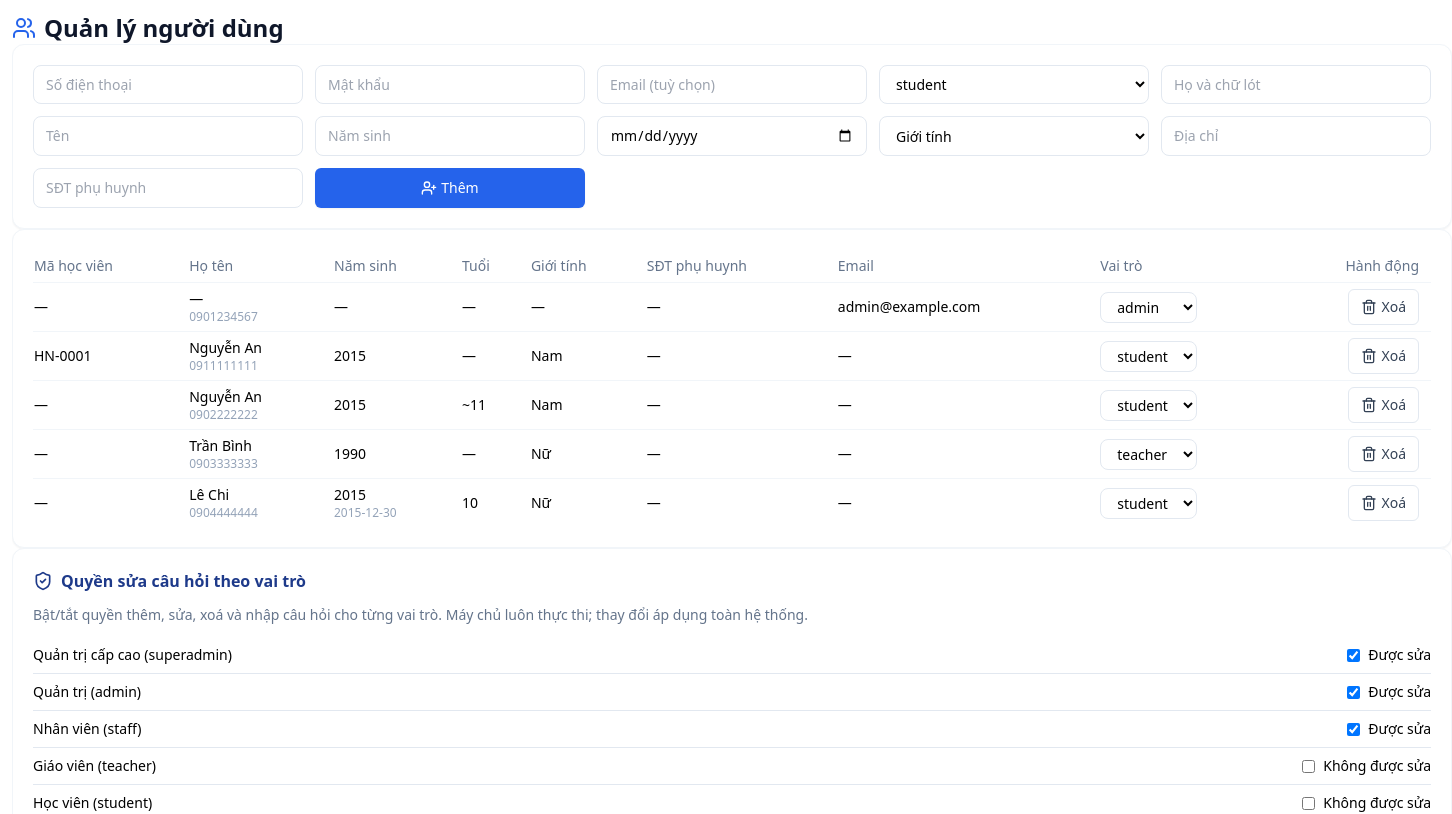
Test: UsersPage › rejects a birth date whose year contradicts the birth year
Expected: the text "0901234567" is shown, x1=189 y1=308 x2=258 y2=325
Type "0905555557" into the field labelled "Số điện thoại" at (168, 84), box x1=33 y1=65 x2=303 y2=104
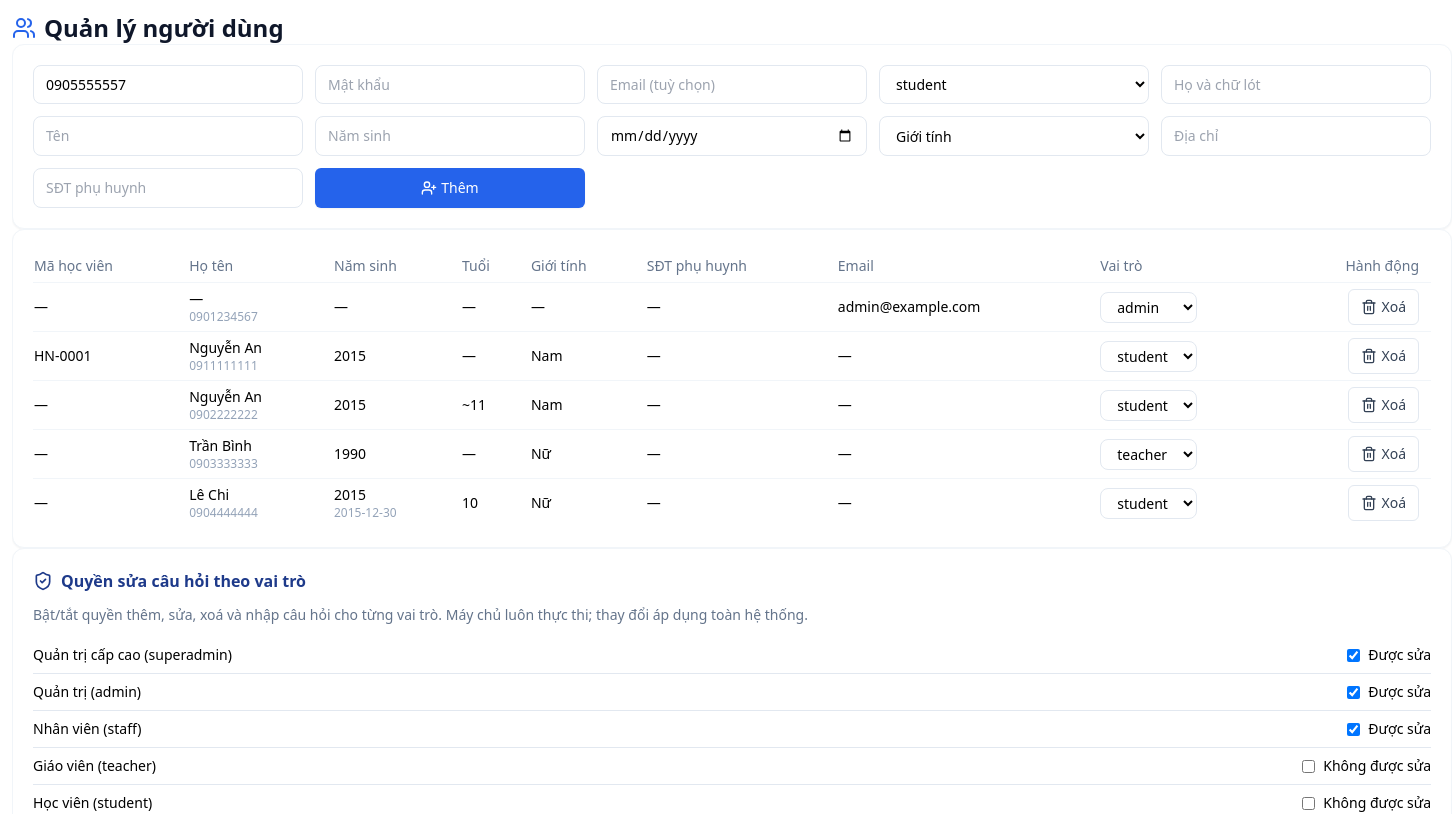
Type "secret12" into the password field labelled "Mật khẩu" at (450, 84), box x1=315 y1=65 x2=585 y2=104
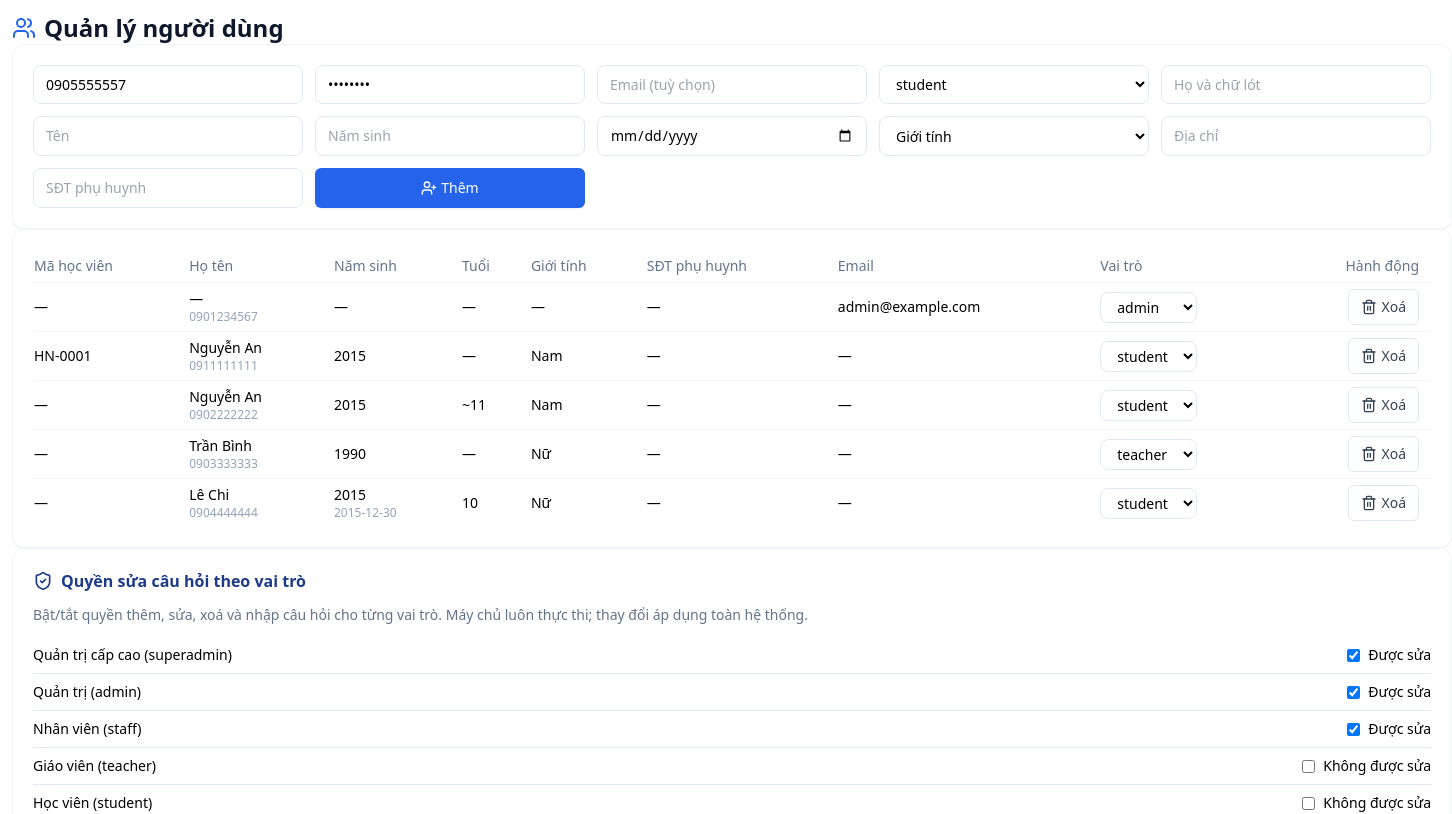
Type "1999" into the number field labelled "Năm sinh" at (450, 136), box x1=315 y1=116 x2=585 y2=156
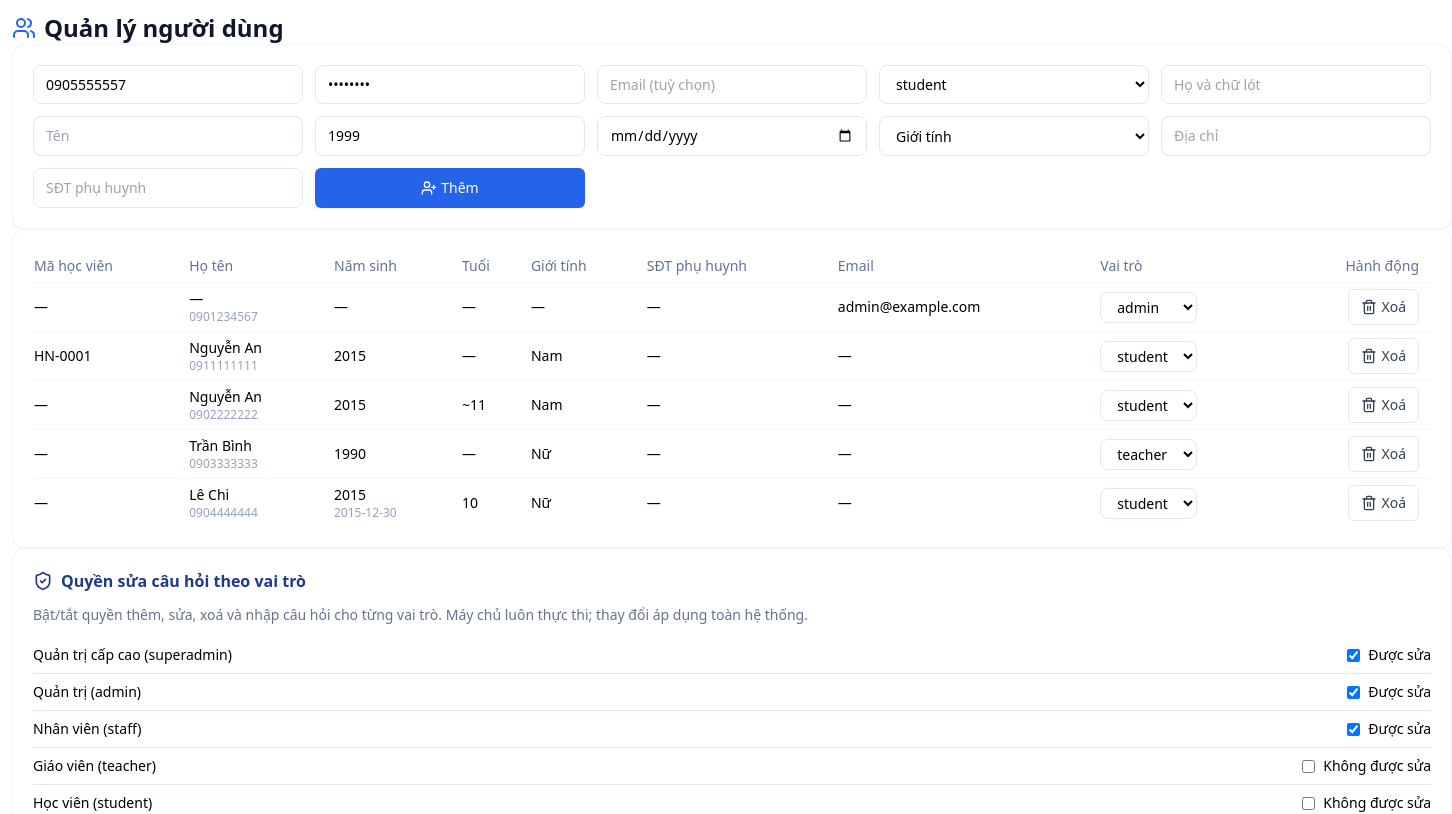
Type "2015-12-30" into the date field named "Ngày sinh đầy đủ (tuỳ chọn)" at (732, 136), box x1=597 y1=116 x2=867 y2=156
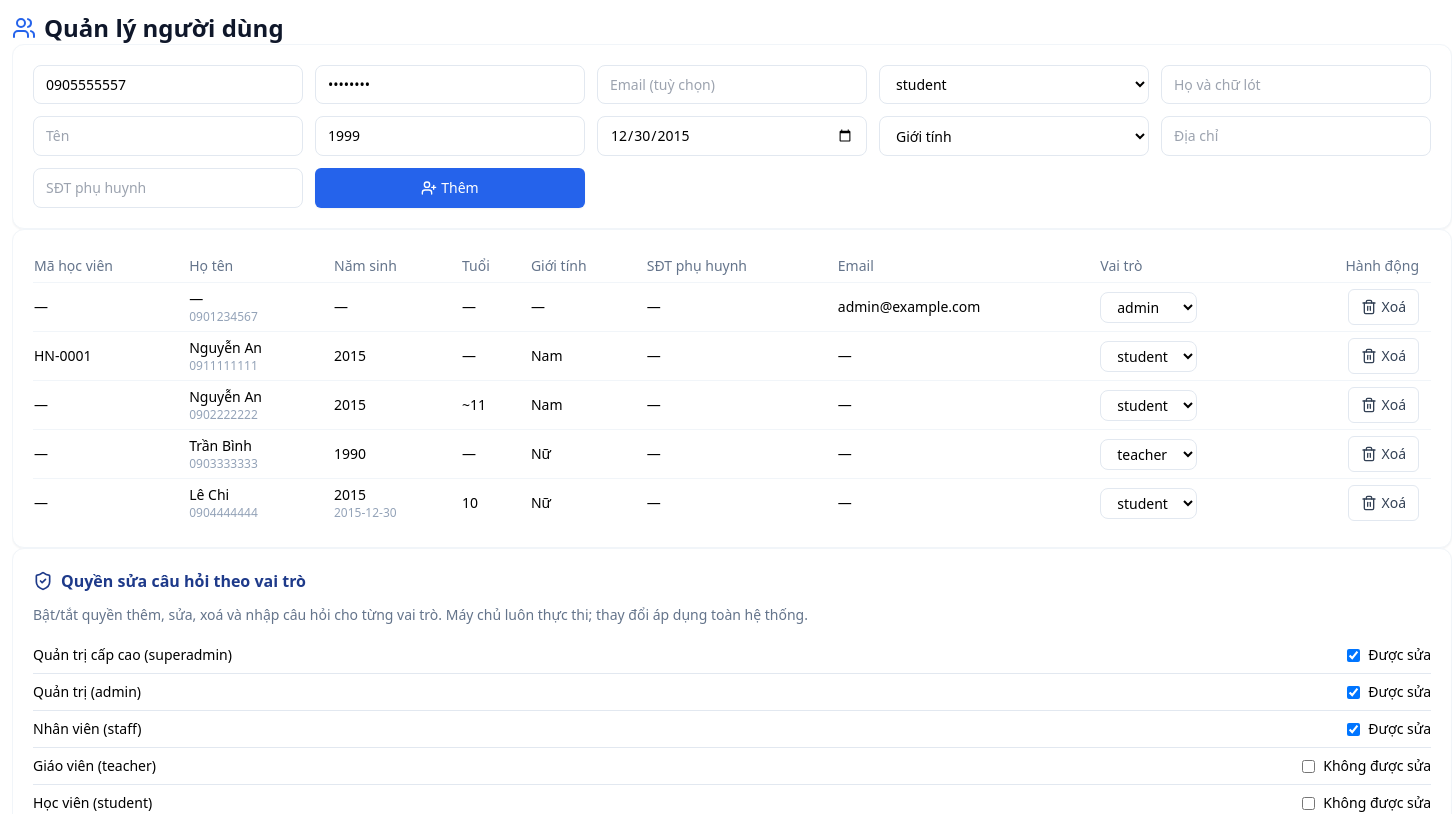
Click the button "Thêm" at (450, 188), box x1=315 y1=168 x2=585 y2=208
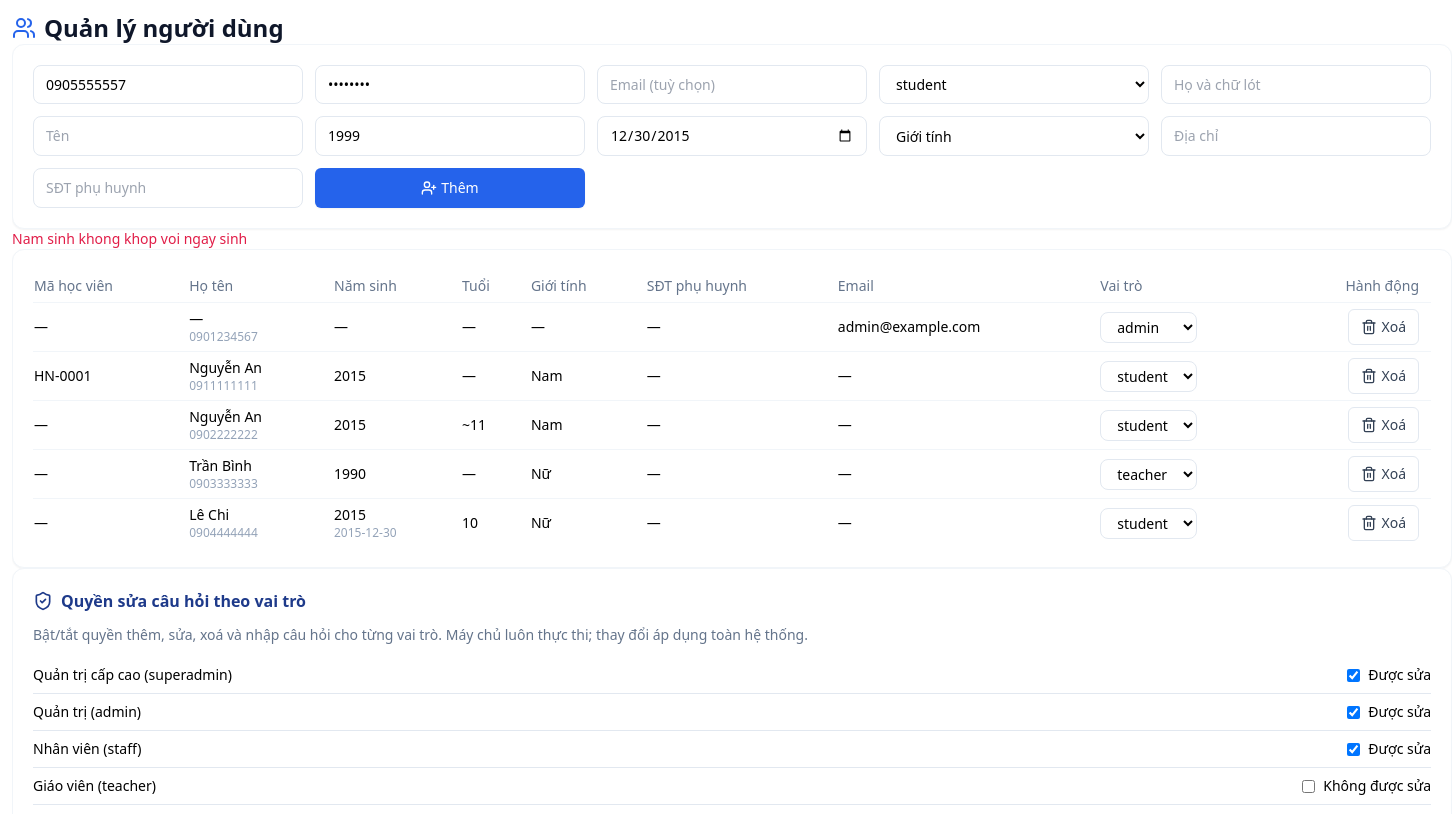
Now the message shows "Nam sinh khong khop", box x1=12 y1=229 x2=247 y2=248
